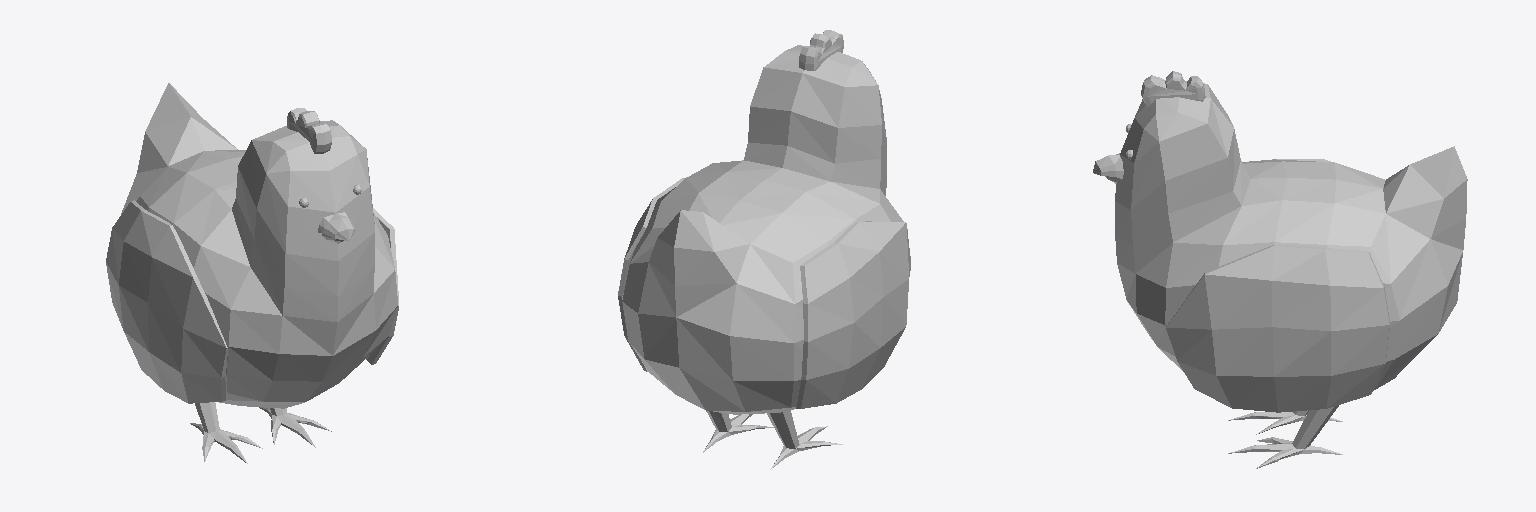
Rendered from chicken.obj.
3 renders of one model, left to right at view 1: azimuth 30°, elevation 25°; view 2: azimuth 150°, elevation 25°; view 3: azimuth 270°, elevation 25°, orthographic.
Bounding box in the file's own units: 2.72 × 4.24 × 3.95.